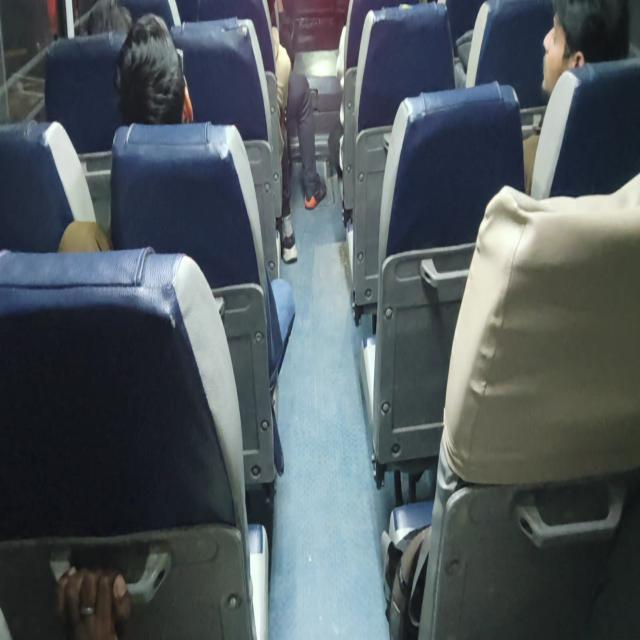person: (58, 12, 295, 473), (198, 0, 327, 263), (57, 12, 194, 252), (522, 0, 630, 194), (270, 1, 328, 210), (113, 12, 194, 125), (540, 0, 629, 99), (55, 564, 132, 638), (73, 0, 132, 36)
